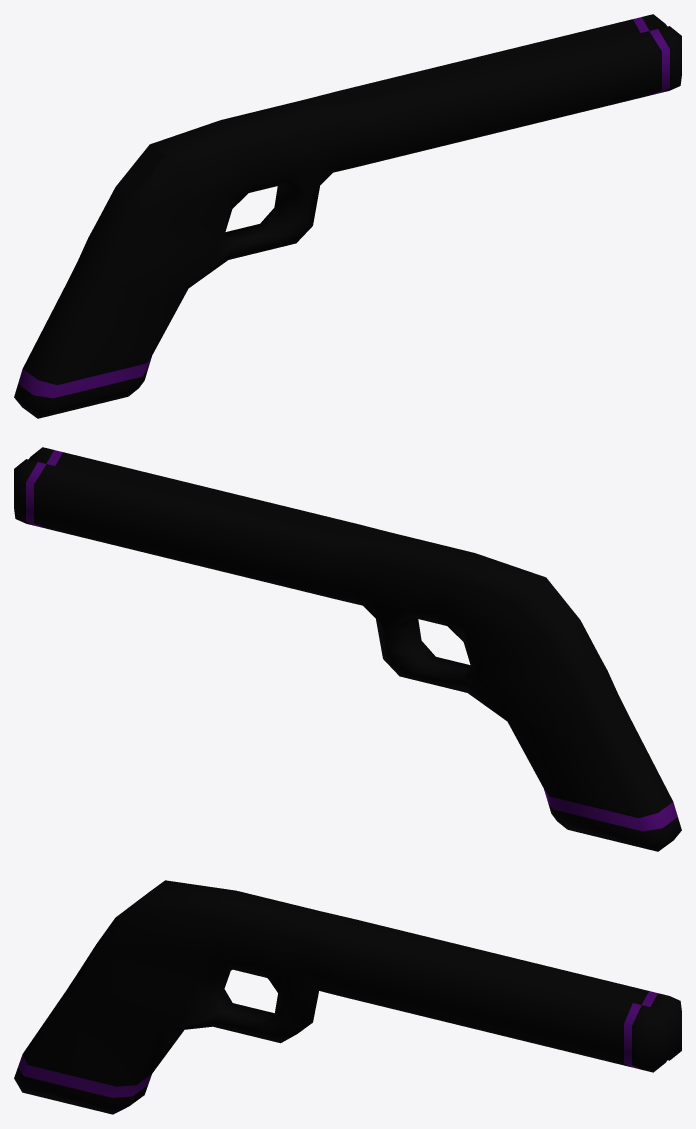
Rendered from Rifle.fbx.
The picture shows the model from 3 angles, top to bottom: view 1: azimuth 30°, elevation 25°; view 2: azimuth 150°, elevation 25°; view 3: azimuth 330°, elevation 25°; orthographic projection.
Parts seen in each view (by area): view 1: Rifle; view 2: Rifle; view 3: Rifle.
Part boxes in pixels (bbox=[...]): Rifle: bbox=[14, 14, 681, 418]; Rifle: bbox=[14, 447, 681, 851]; Rifle: bbox=[14, 880, 681, 1114].
Size of the model in its own units: 1.17 by 0.1182 by 0.4091.
